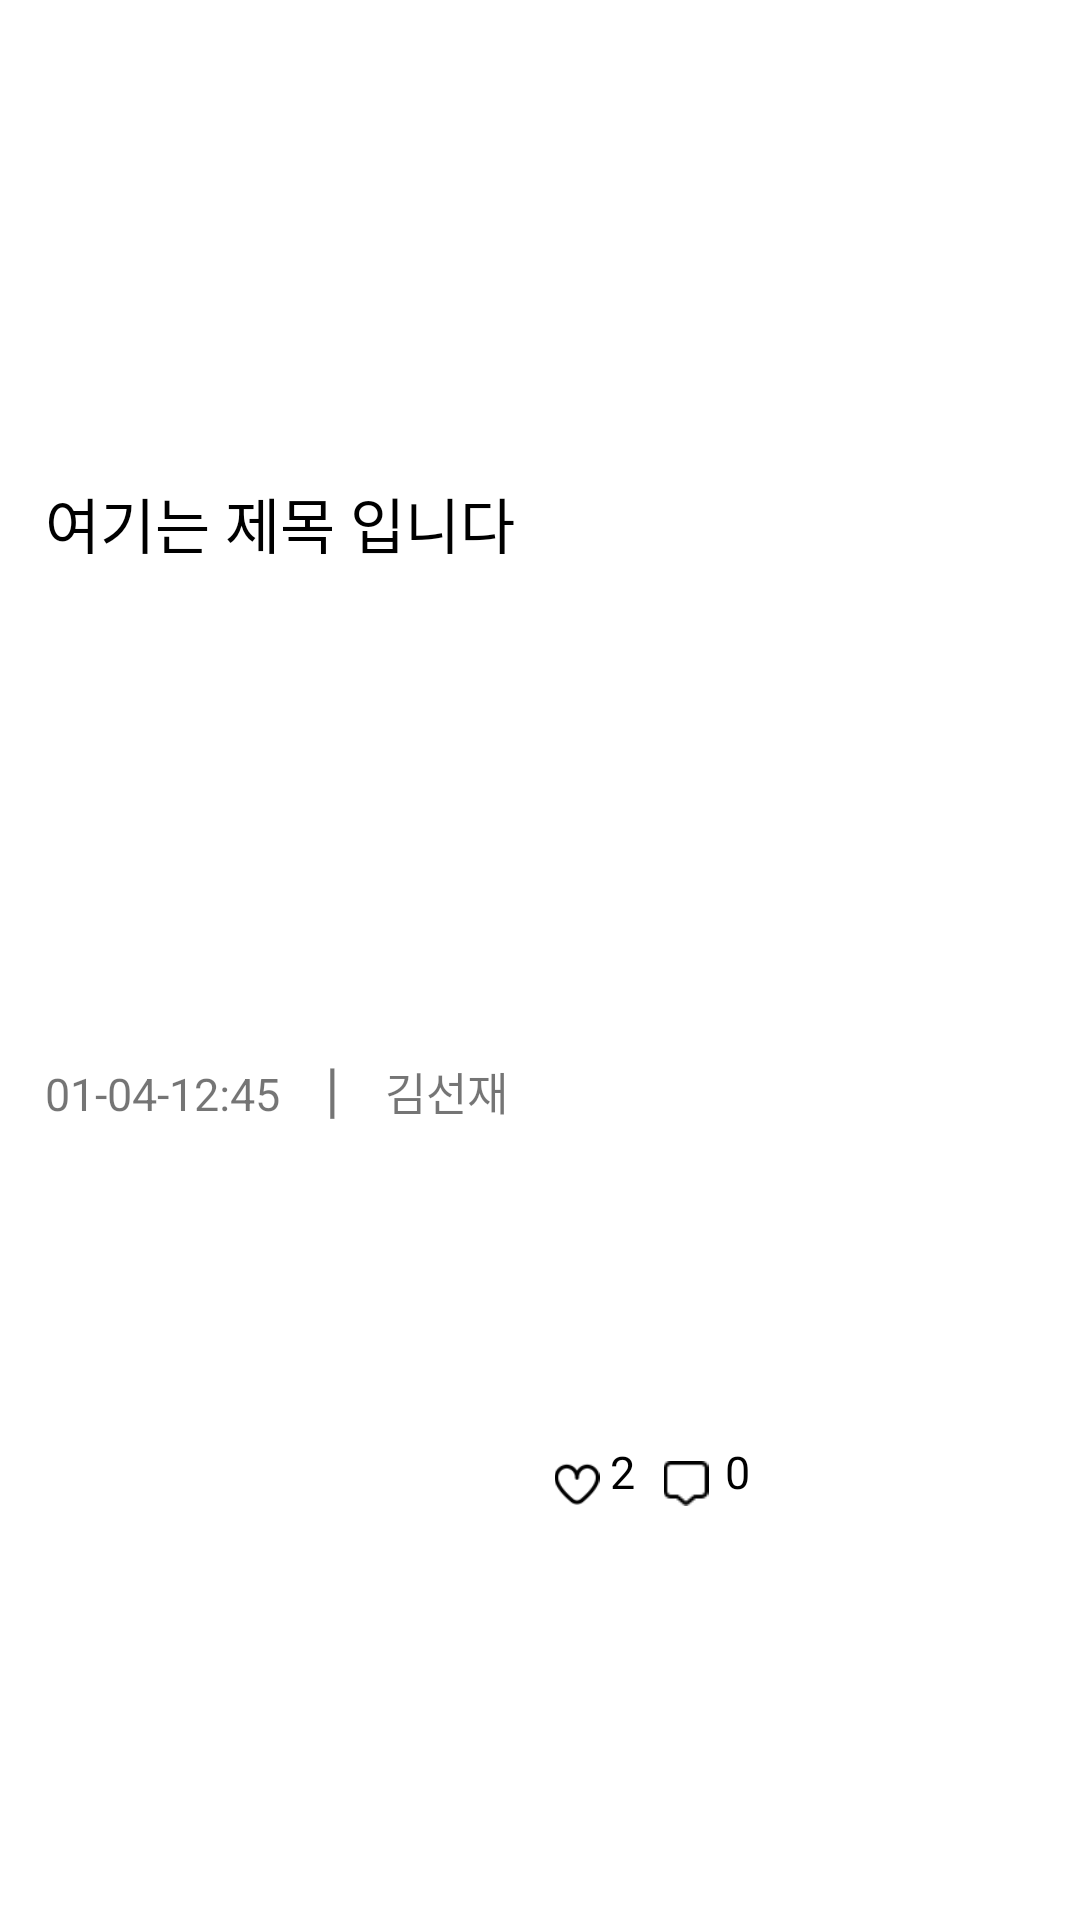

Icon click points for this 1080px×1920px phone screenshot, format (x=x, y=y):
comment: (x=686, y=1483)
heart: (x=577, y=1484)
